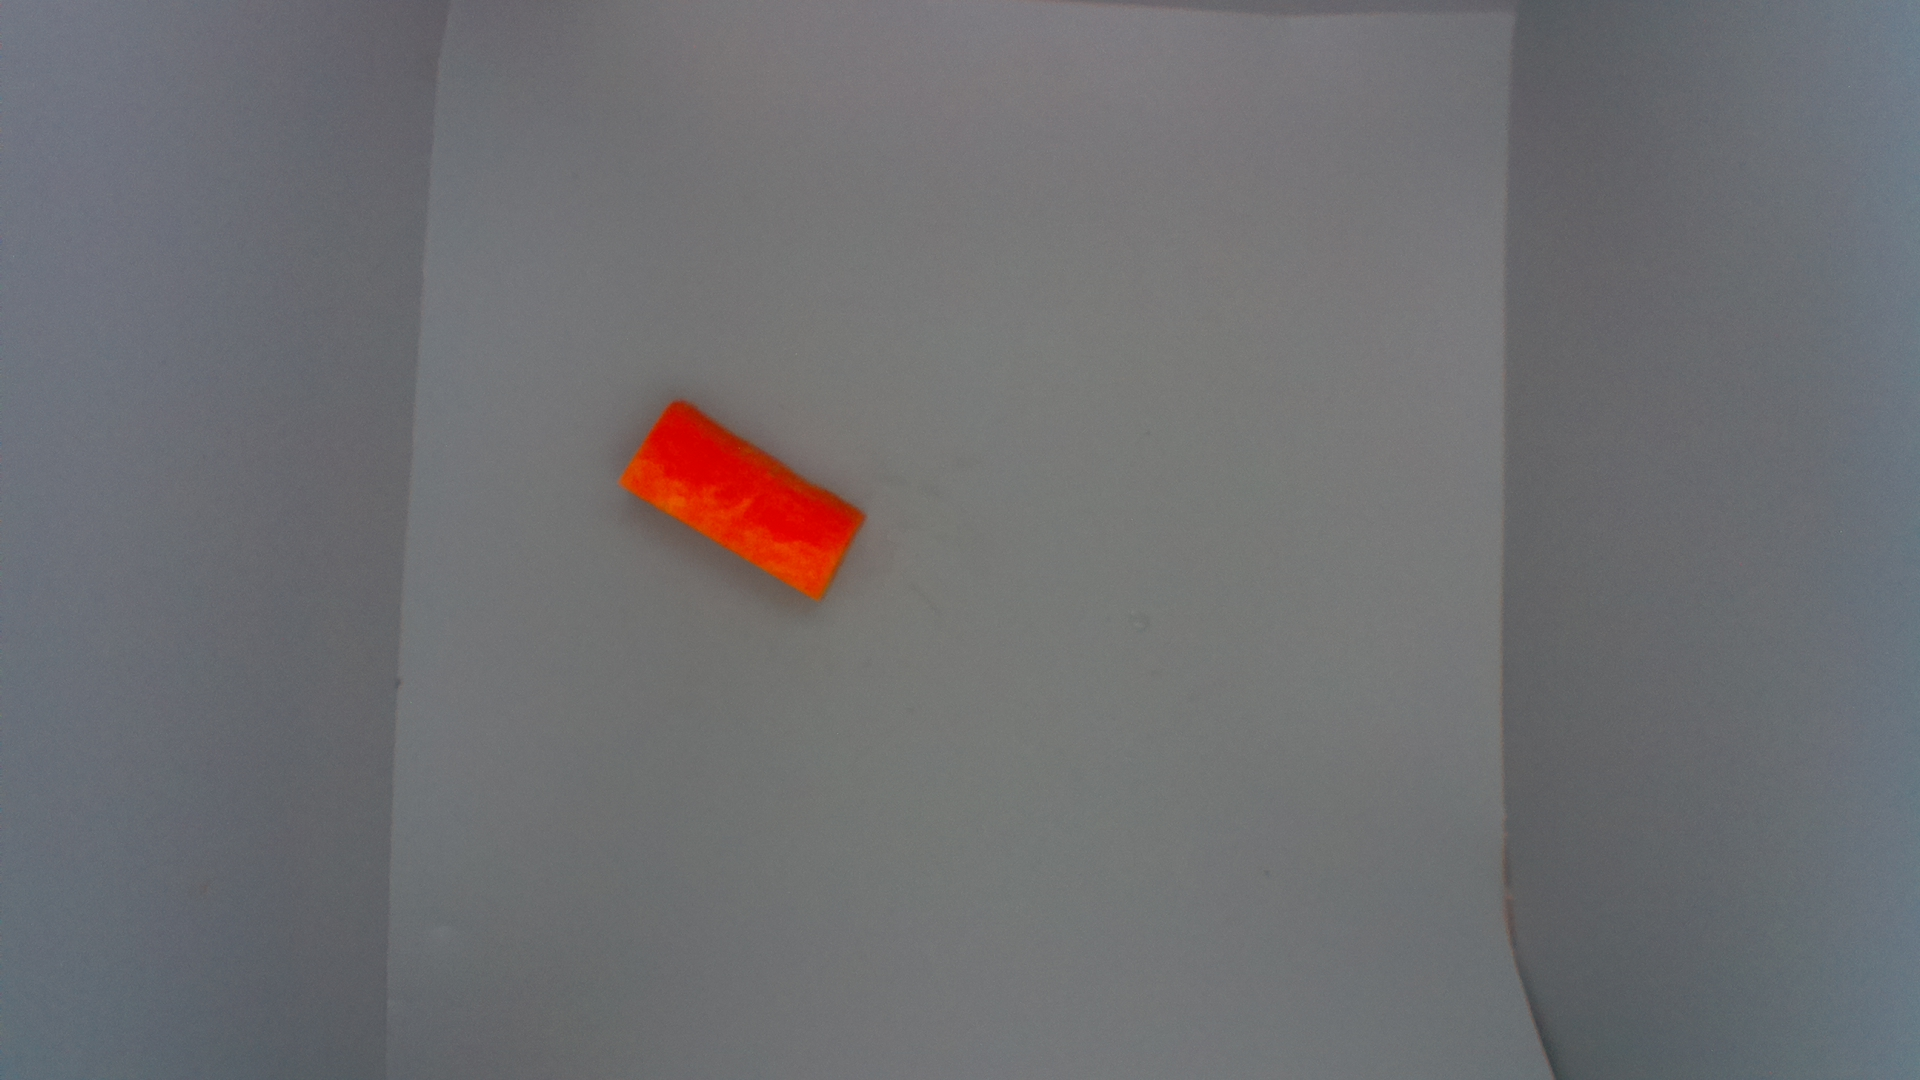carrot: (618, 398, 870, 603)
